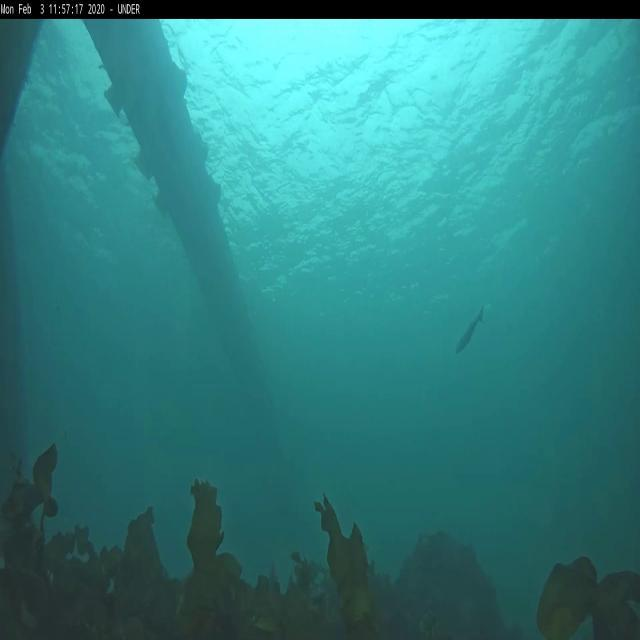fish: (456, 308, 484, 352)
